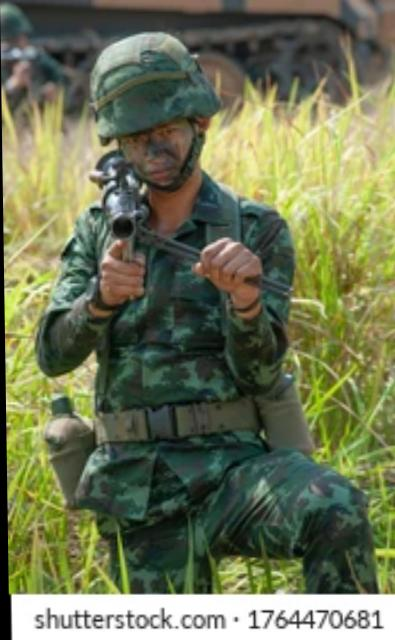other: (49, 33, 309, 560)
